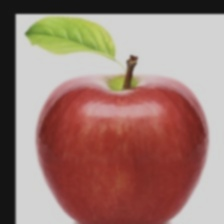apple: (39, 47, 208, 182)
